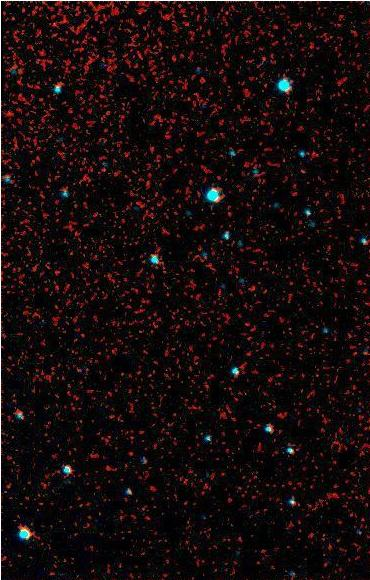star: (281, 157, 311, 187)
